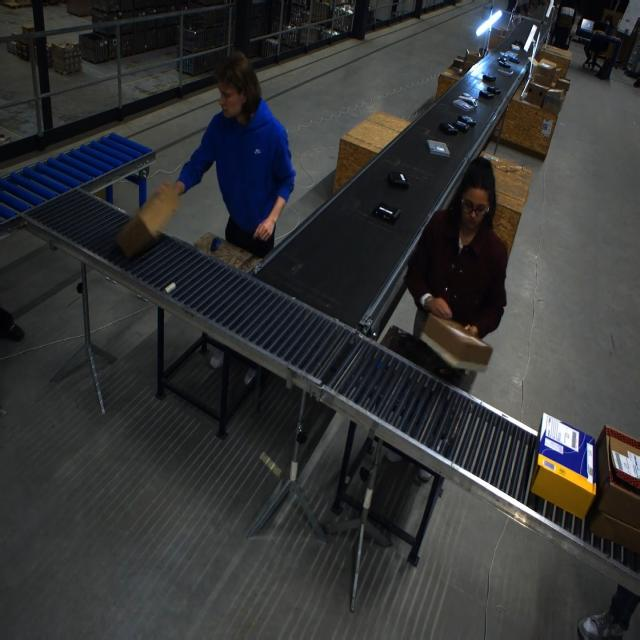box: (529, 415, 597, 519), (587, 424, 640, 556), (123, 172, 192, 260), (524, 81, 552, 108), (531, 59, 558, 87), (541, 89, 566, 114), (459, 50, 479, 74), (549, 76, 570, 97), (452, 56, 465, 71)
product: (372, 203, 400, 224), (426, 139, 450, 155), (387, 171, 409, 188), (453, 99, 475, 112), (458, 115, 476, 127), (439, 122, 457, 134), (502, 52, 519, 64), (496, 64, 513, 76), (454, 120, 468, 132), (479, 89, 495, 99), (486, 86, 501, 95), (482, 73, 496, 82), (497, 60, 511, 69), (513, 39, 525, 49), (511, 43, 521, 52)
